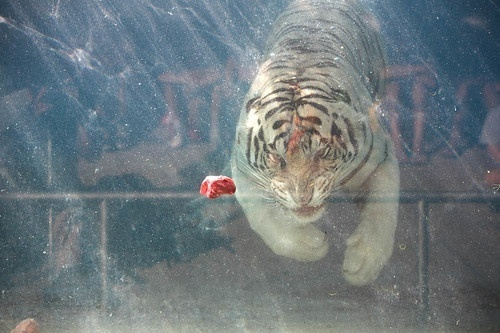tigre: (234, 1, 407, 285)
